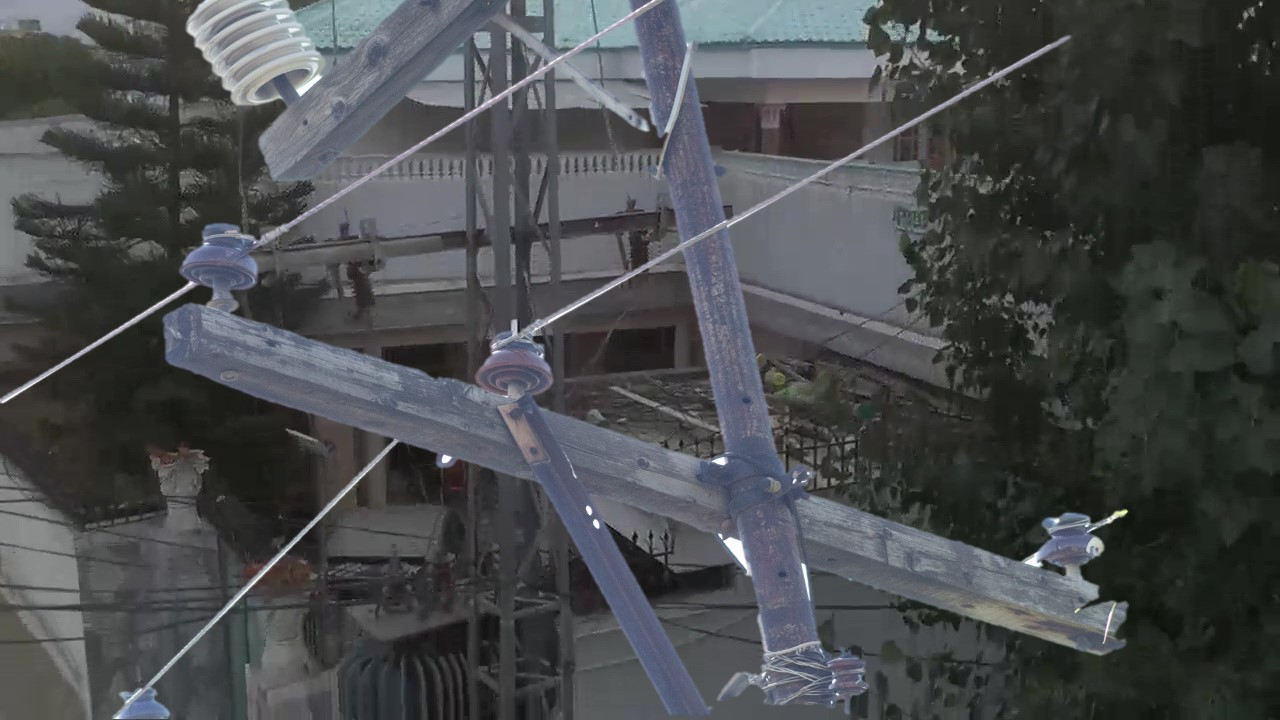defect_pin: (1028, 505, 1120, 577)
insulator_pin: (178, 210, 269, 299), (470, 328, 559, 400)
